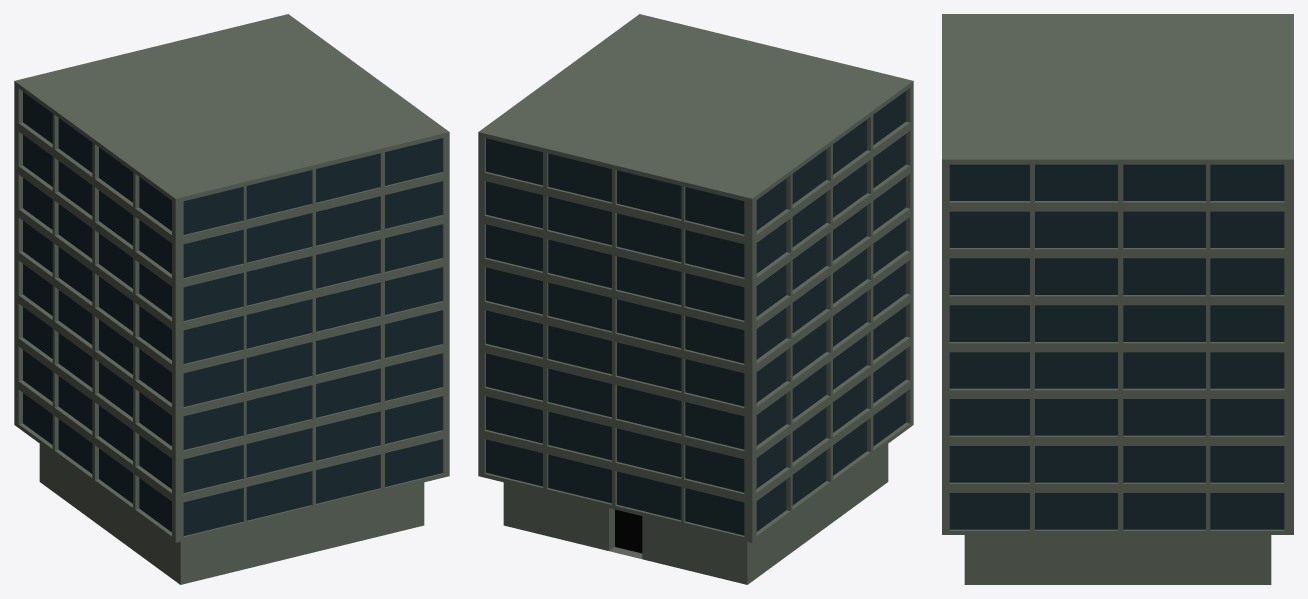
The model's file is PredioVini.fbx.
3 renders of one model, left to right at view 1: azimuth 30°, elevation 25°; view 2: azimuth 150°, elevation 25°; view 3: azimuth 270°, elevation 25°, orthographic. The views are drawn at different scales.
Parts seen in each view (by area): view 1: Prédio; view 2: Prédio; view 3: Prédio.
Part boxes in pixels (box(x1,y1,x2,y2)): Prédio: box(14, 14, 449, 584); Prédio: box(478, 14, 913, 584); Prédio: box(942, 14, 1293, 584).
Bounding box in the file's own units: 561 × 777 × 572.
